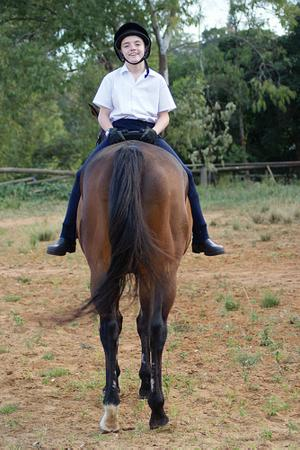person: (47, 21, 226, 260)
